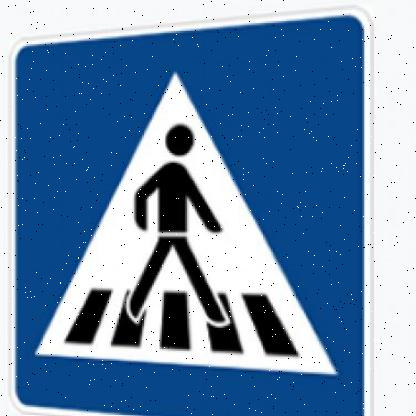Pedestrian Crossing: (14, 12, 371, 416)
